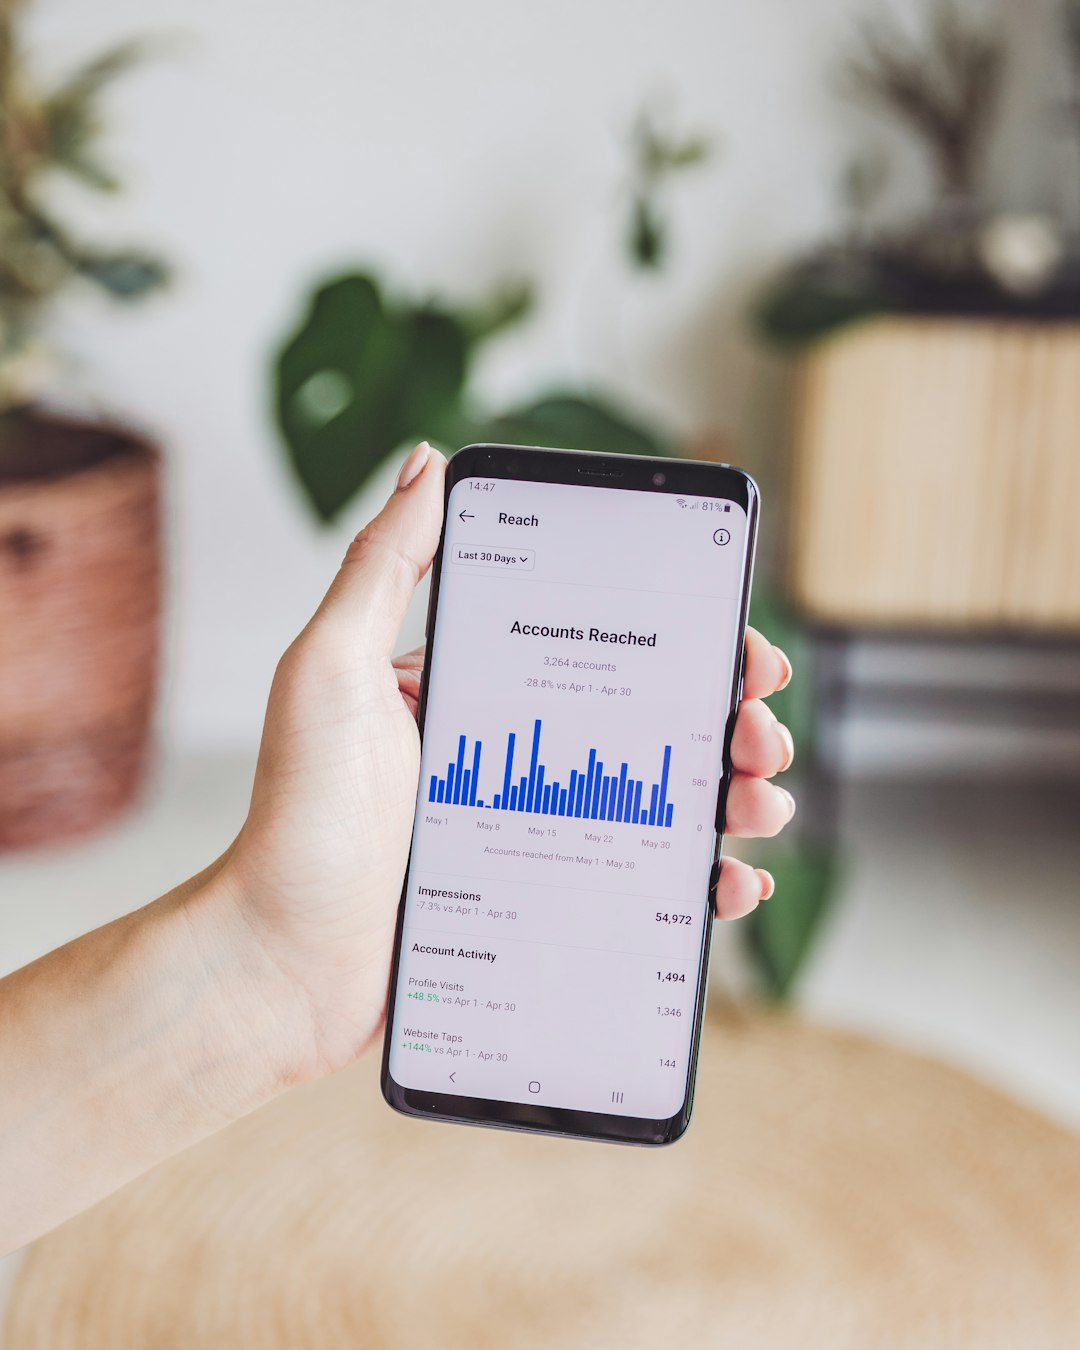phone: (379, 442, 765, 1148)
